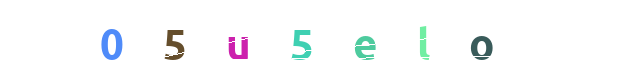0: (71, 0, 151, 80)
5: (134, 0, 214, 80), (239, 0, 319, 80)
E: (278, 0, 358, 80)
L: (316, 0, 396, 80)
O: (441, 0, 521, 80)
U: (198, 0, 278, 80)
